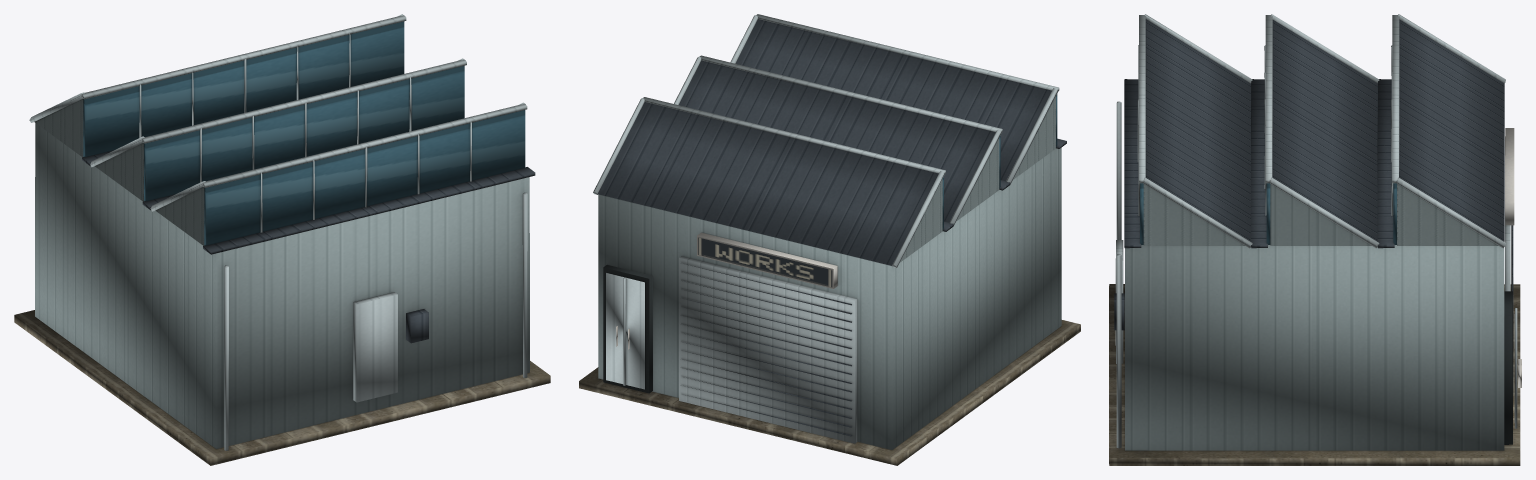
Rendered from factory_003.obj.
The picture shows the model from 3 angles, left to right: view 1: azimuth 30°, elevation 25°; view 2: azimuth 150°, elevation 25°; view 3: azimuth 270°, elevation 25°; orthographic projection. The views are drawn at different scales.
Visible parts, largest first — view 1: factory_003; view 2: factory_003; view 3: factory_003.
Boxes of the visible parts, <box> form: factory_003: <box>14,14,550,465</box>; factory_003: <box>579,14,1080,465</box>; factory_003: <box>1109,14,1521,465</box>.
Bounding box in the file's own units: 6.5 × 4.94 × 6.53.
1 material, 1 textured.
